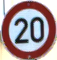20 km speed: (1, 1, 57, 59)
